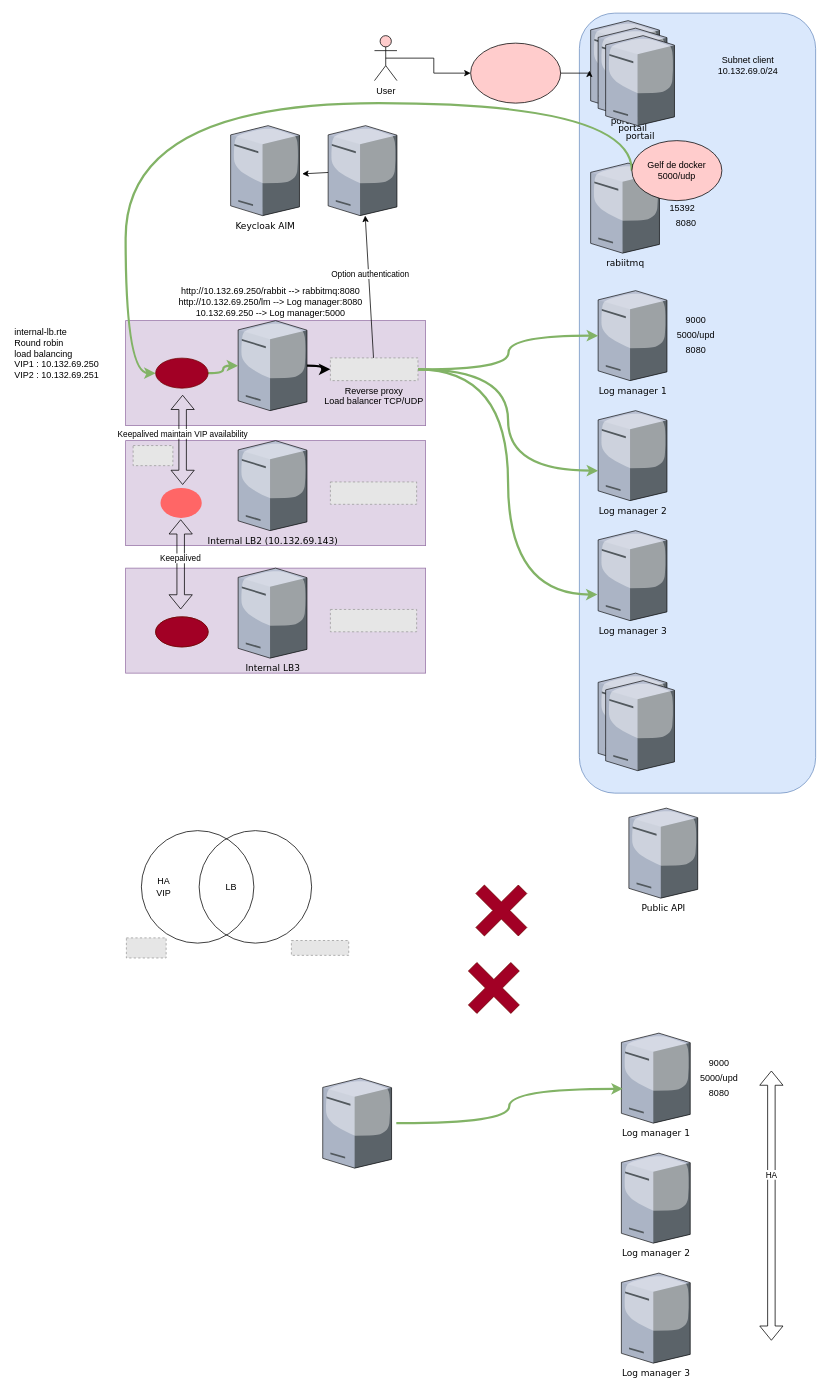
This 829x1392 diagram has some shape labels left out. Grey dashed boxes stand in for pictures. Each missing label, with the box of its shape:
Client: (322, 1078, 391, 1168)
Internal LB 1 (10.132.69.142): (238, 320, 307, 410)
proxy auth: (328, 125, 397, 215)
Reverse Proxy: (198, 830, 312, 943)
Rweb: (470, 42, 561, 103)
Virt IP 1: (155, 357, 208, 388)
Virt IP 2: (155, 616, 208, 647)
Virt IP X: (160, 488, 201, 518)
